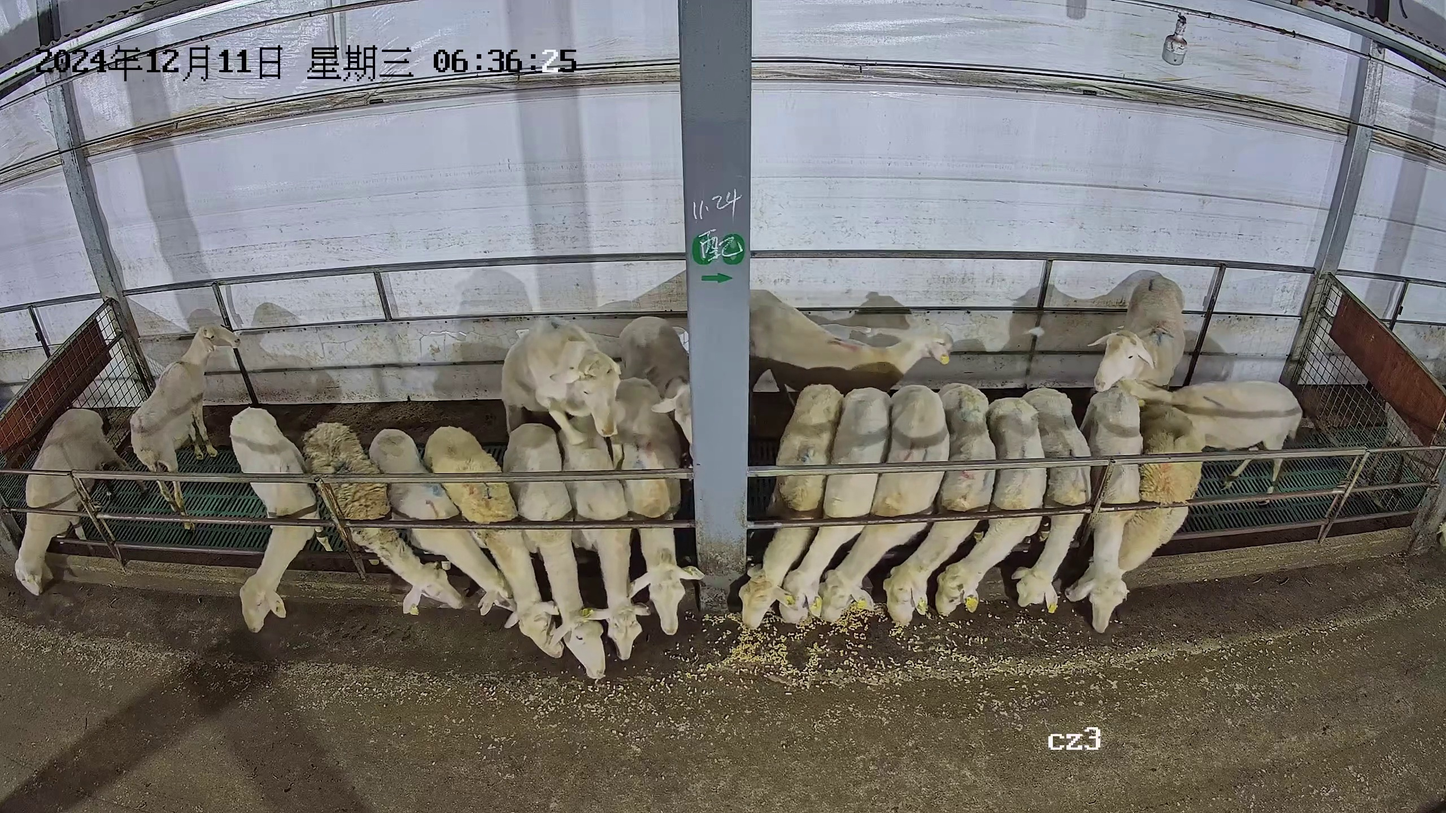Nmounting: (496, 314, 626, 658)
